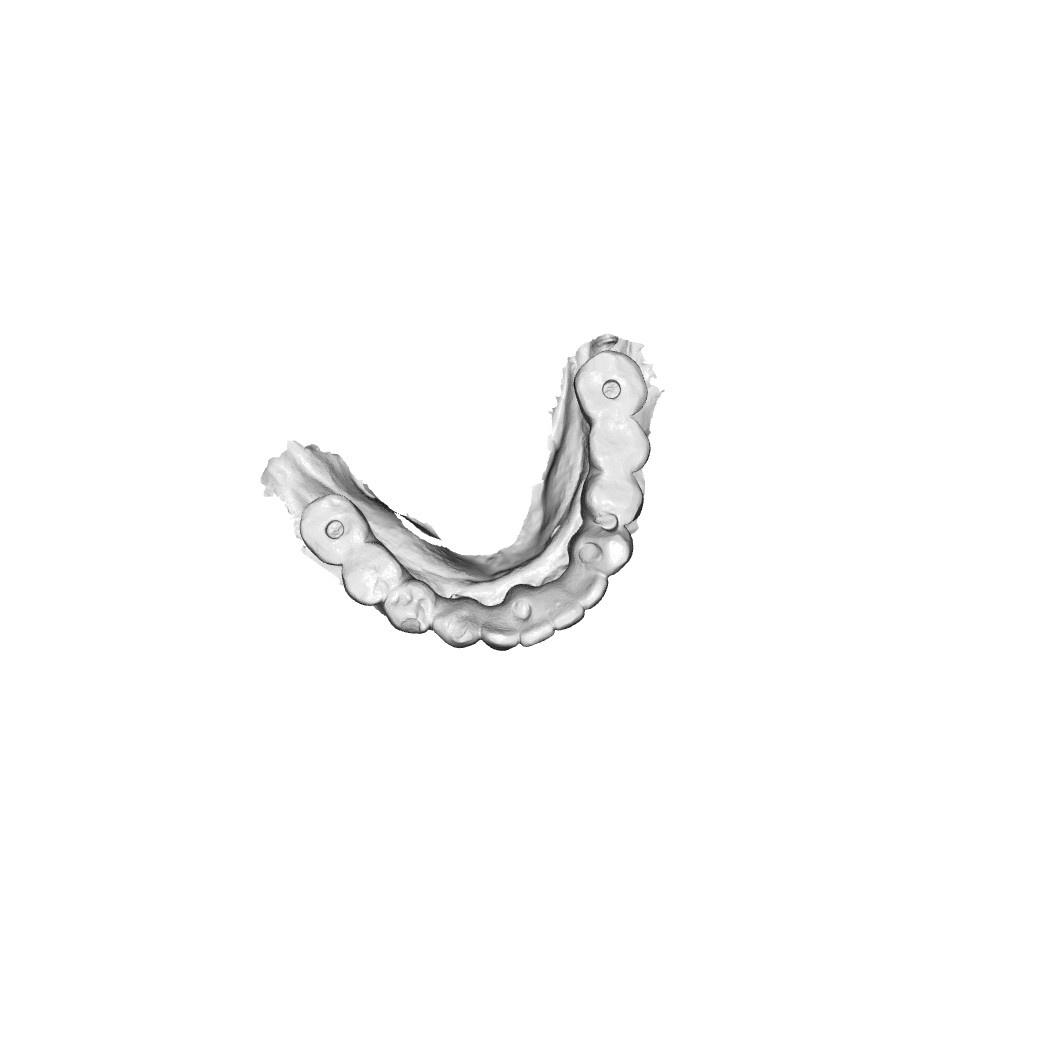canine: (433, 594, 482, 646), (577, 525, 633, 569)
incisor: (564, 558, 618, 614), (482, 605, 521, 656), (514, 600, 555, 646), (543, 581, 580, 624)
molar: (576, 352, 647, 419), (301, 496, 364, 566)
premolar: (585, 472, 649, 523), (342, 550, 400, 606), (591, 416, 646, 475), (384, 583, 434, 631)
